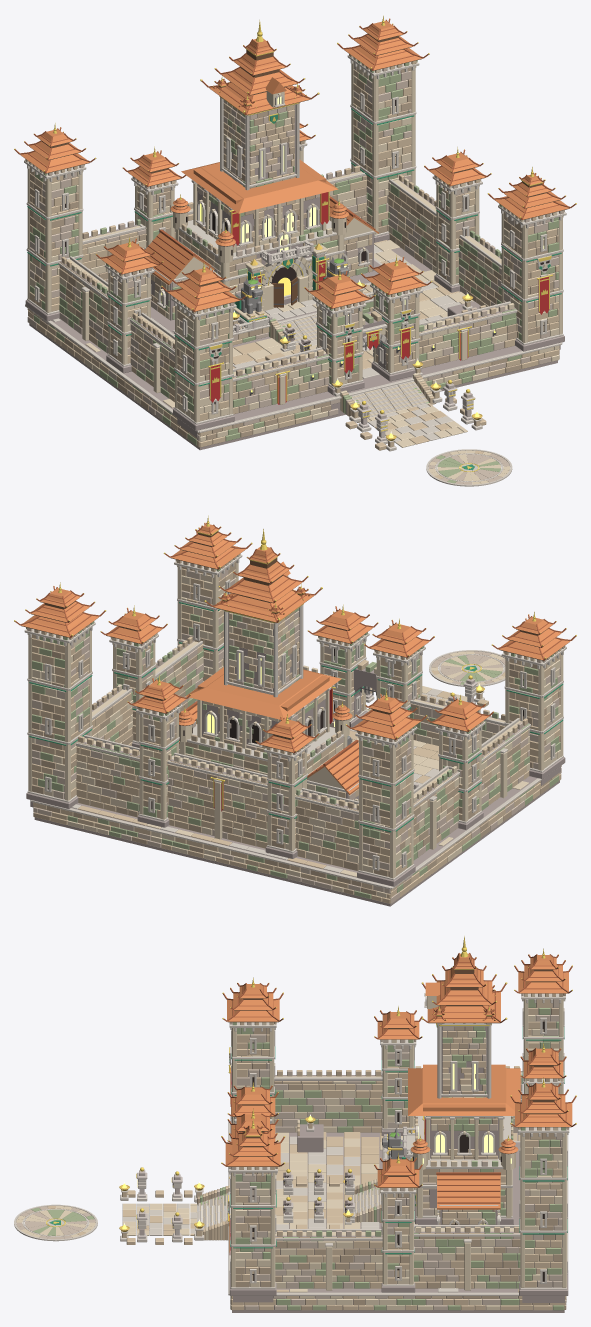
File: Floor1_Fortress.fbx
3 renders of one model, top to bottom at view 1: azimuth 30°, elevation 25°; view 2: azimuth 150°, elevation 25°; view 3: azimuth 270°, elevation 25°, orthographic. The views are drawn at different scales.
Parts seen in each view (by area): view 1: Fortress_Roofs__JF_Roof_Copper, Fortress_Roofs__JF_Roof_Copper_Dark_1, Fortress_Keep__JF_Roof_Copper, Fortress_Keep__Castle_Trim_1, Fortress_Podium__Castle_Stone_Dark, Fortress_Walk_Podium__JF_Sandstone_Light, Fortress_Podium__JF_Sandstone, Fortress_Keep__JF_Sandstone_Light_1, Fortress_Walk_Podium__Castle_Trim, Fortress_Podium__Castle_Trim, Fortress_Tower_Corner_NE__JF_Sandstone_Light, Fortress_Tower_Corner_SW__JF_Sandstone_Light (+80 smaller); view 2: Fortress_Roofs__JF_Roof_Copper, Fortress_Roofs__JF_Roof_Copper_Dark_1, Fortress_Keep__JF_Roof_Copper, Fortress_Wall_North_C__JF_Sandstone, Fortress_Podium__JF_Sandstone, Fortress_Podium__Castle_Stone_Dark, Fortress_Keep__Castle_Trim_1, Fortress_Keep__JF_Sandstone_Light_1, Fortress_Tower_Corner_NE__JF_Sandstone_Light, Fortress_Tower_Corner_NW__JF_Sandstone_Light, Fortress_Tower_Corner_NE__JF_Sandstone, Fortress_Podium__Castle_Trim (+82 smaller); view 3: Fortress_Roofs__JF_Roof_Copper, Fortress_Keep__JF_Roof_Copper, Fortress_Roofs__JF_Roof_Copper_Dark_1, Fortress_Walk_Podium__JF_Sandstone_Light, Fortress_Walk_Podium__JF_Sandstone, Fortress_Walk_Podium__Castle_Trim, Fortress_Podium__Castle_Stone_Dark, Fortress_Podium__JF_Sandstone, Fortress_Keep__Castle_Trim_2, Fortress_Keep__JF_Sandstone_2, Fortress_Tower_Corner_NE__JF_Sandstone_Light, Fortress_Podium__Castle_Trim (+68 smaller).
Boxes of the visible parts, x1,y1,x2,y2 form: Fortress_Roofs__JF_Roof_Copper: (20,20,569,311); Fortress_Roofs__JF_Roof_Copper_Dark_1: (15,18,559,311); Fortress_Keep__JF_Roof_Copper: (145,77,378,285); Fortress_Keep__Castle_Trim_1: (151,94,344,310); Fortress_Podium__Castle_Stone_Dark: (29,240,557,450); Fortress_Walk_Podium__JF_Sandstone_Light: (85,240,473,447); Fortress_Podium__JF_Sandstone: (27,308,559,450); Fortress_Keep__JF_Sandstone_Light_1: (154,91,330,319); Fortress_Walk_Podium__Castle_Trim: (52,245,461,442); Fortress_Podium__Castle_Trim: (25,304,562,451); Fortress_Tower_Corner_NE__JF_Sandstone_Light: (351,57,415,234); Fortress_Tower_Corner_SW__JF_Sandstone_Light: (175,304,232,422); Fortress_Roofs__JF_Roof_Copper: (21,523,570,752); Fortress_Roofs__JF_Roof_Copper_Dark_1: (29,523,575,752); Fortress_Keep__JF_Roof_Copper: (179,561,358,795); Fortress_Wall_North_C__JF_Sandstone: (167,753,267,848); Fortress_Podium__JF_Sandstone: (33,688,561,903); Fortress_Podium__Castle_Stone_Dark: (34,776,559,906); Fortress_Keep__Castle_Trim_1: (187,604,358,801); Fortress_Keep__JF_Sandstone_Light_1: (200,575,358,801); Fortress_Tower_Corner_NE__JF_Sandstone_Light: (28,629,91,800); Fortress_Tower_Corner_NW__JF_Sandstone_Light: (359,731,413,878); Fortress_Tower_Corner_NE__JF_Sandstone: (32,627,89,798); Fortress_Podium__Castle_Trim: (30,686,550,889); Fortress_Roofs__JF_Roof_Copper: (225,953,572,1187); Fortress_Keep__JF_Roof_Copper: (408,982,520,1209); Fortress_Roofs__JF_Roof_Copper_Dark_1: (221,953,576,1183); Fortress_Walk_Podium__JF_Sandstone_Light: (122,1132,402,1292); Fortress_Walk_Podium__JF_Sandstone: (122,1132,520,1292); Fortress_Walk_Podium__Castle_Trim: (122,1136,458,1292); Fortress_Podium__Castle_Stone_Dark: (232,1132,564,1312); Fortress_Podium__JF_Sandstone: (122,1186,566,1310); Fortress_Keep__Castle_Trim_2: (405,1023,514,1224); Fortress_Keep__JF_Sandstone_2: (415,1031,505,1224); Fortress_Tower_Corner_NE__JF_Sandstone_Light: (520,1127,566,1287); Fortress_Podium__Castle_Trim: (120,1121,568,1295).
Bounding box in the file's own units: 128193 × 95427 × 166363.
